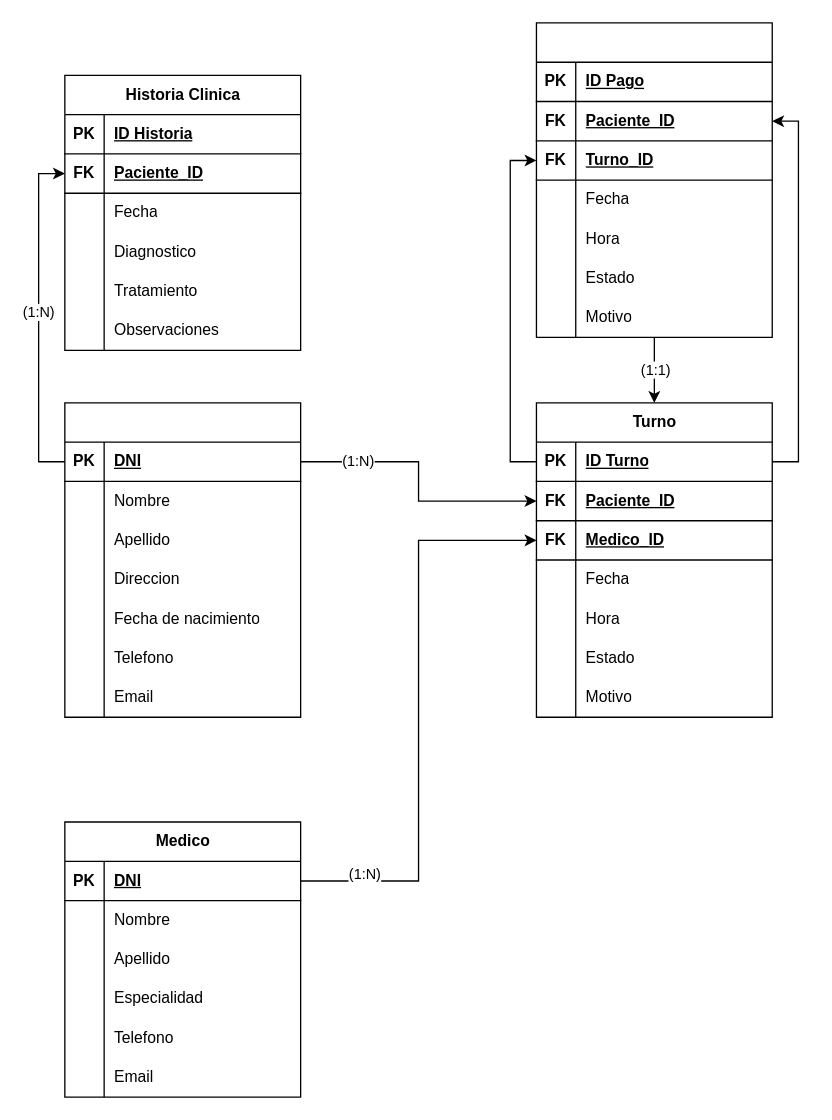
Some shapes in this 832 by 1120 pixel diagram are drawn without their labels. Here are the shapes that lost their labels. From the top down, the box of each, then its label:
(535, 22, 772, 337): Pagos
(64, 402, 301, 717): Paciente
